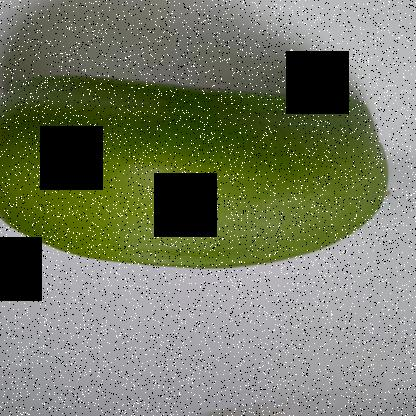freshunripe: (1, 64, 396, 278)
